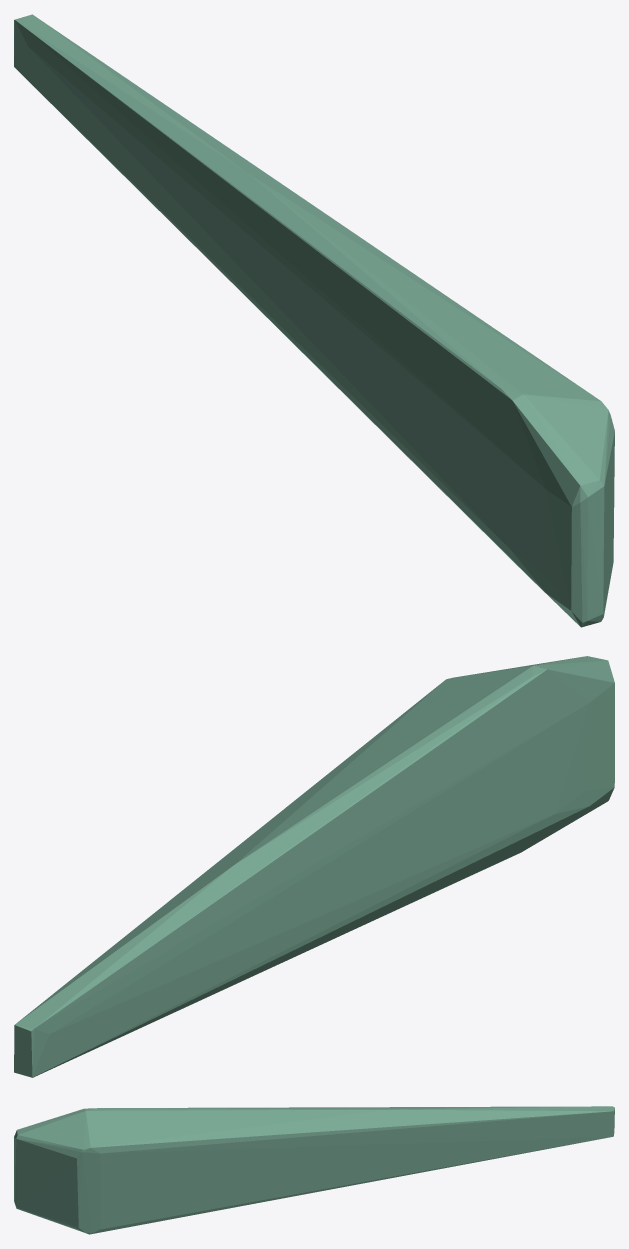
File: equipment_alarm_siren_a01.glb
The picture shows the model from 3 angles, top to bottom: view 1: azimuth 30°, elevation 25°; view 2: azimuth 150°, elevation 25°; view 3: azimuth 270°, elevation 25°; orthographic projection. The views are drawn at different scales.
Visible parts, largest first — view 1: geometry_0; view 2: geometry_0; view 3: geometry_0.
Part boxes in pixels (left/top/right/bottom): geometry_0: left=14, top=14, right=614, bottom=627; geometry_0: left=14, top=656, right=614, bottom=1077; geometry_0: left=14, top=1106, right=614, bottom=1234.
Size of the model in its own units: 0.0486 by 0.0945 by 0.4798.
